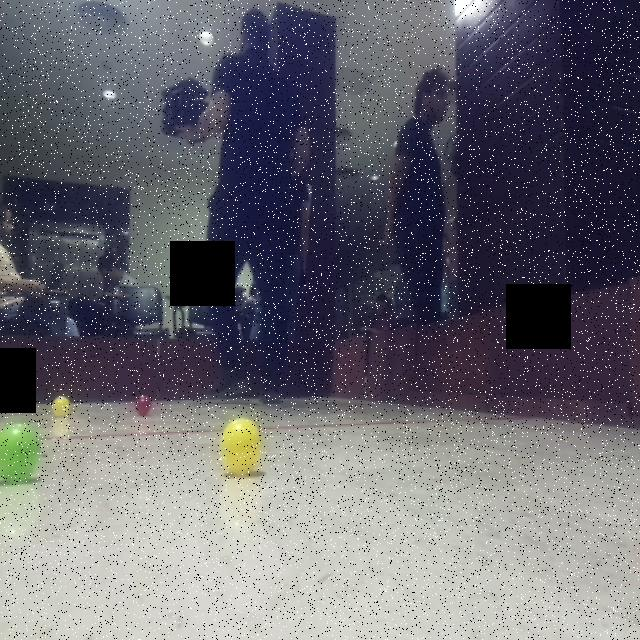ball: (217, 412, 270, 481), (0, 418, 45, 484), (51, 392, 73, 422), (132, 392, 155, 420)
